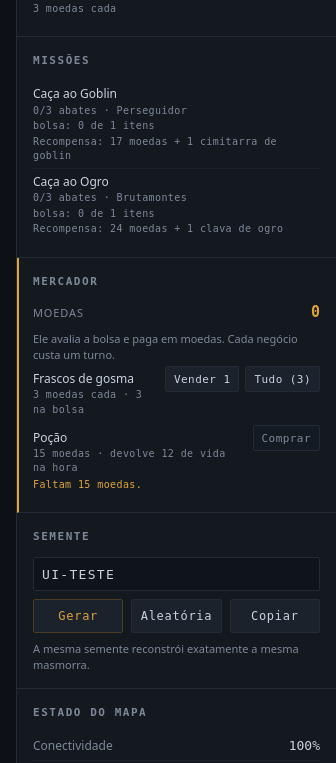
UI — smoke da casca React (§7.4) › sobre o mercador: vender despacha o comando e a bolsa e as moedas seguem
(page scrolled)
Check: the text with id "troca-moedas" reads "0", box [311, 303, 320, 321]
Click the button "Vender 1" at (202, 379), box [165, 366, 239, 392]
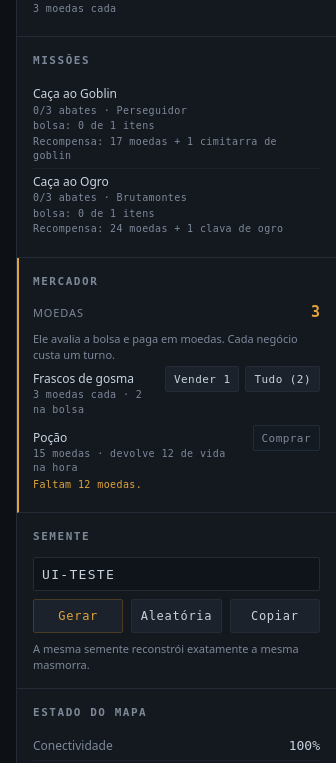
Check: the text with id "troca-moedas" reads "3", box [311, 303, 320, 321]
Click the button "Tudo (2)" at (283, 379), box [246, 366, 320, 392]
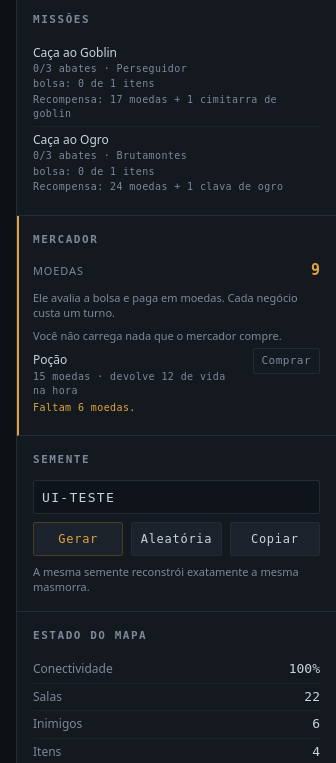
Check: the element with id "troca-venda" is gone
Check: the text "Você não carrega nada que o mercador compre." is shown, box [33, 328, 320, 344]
